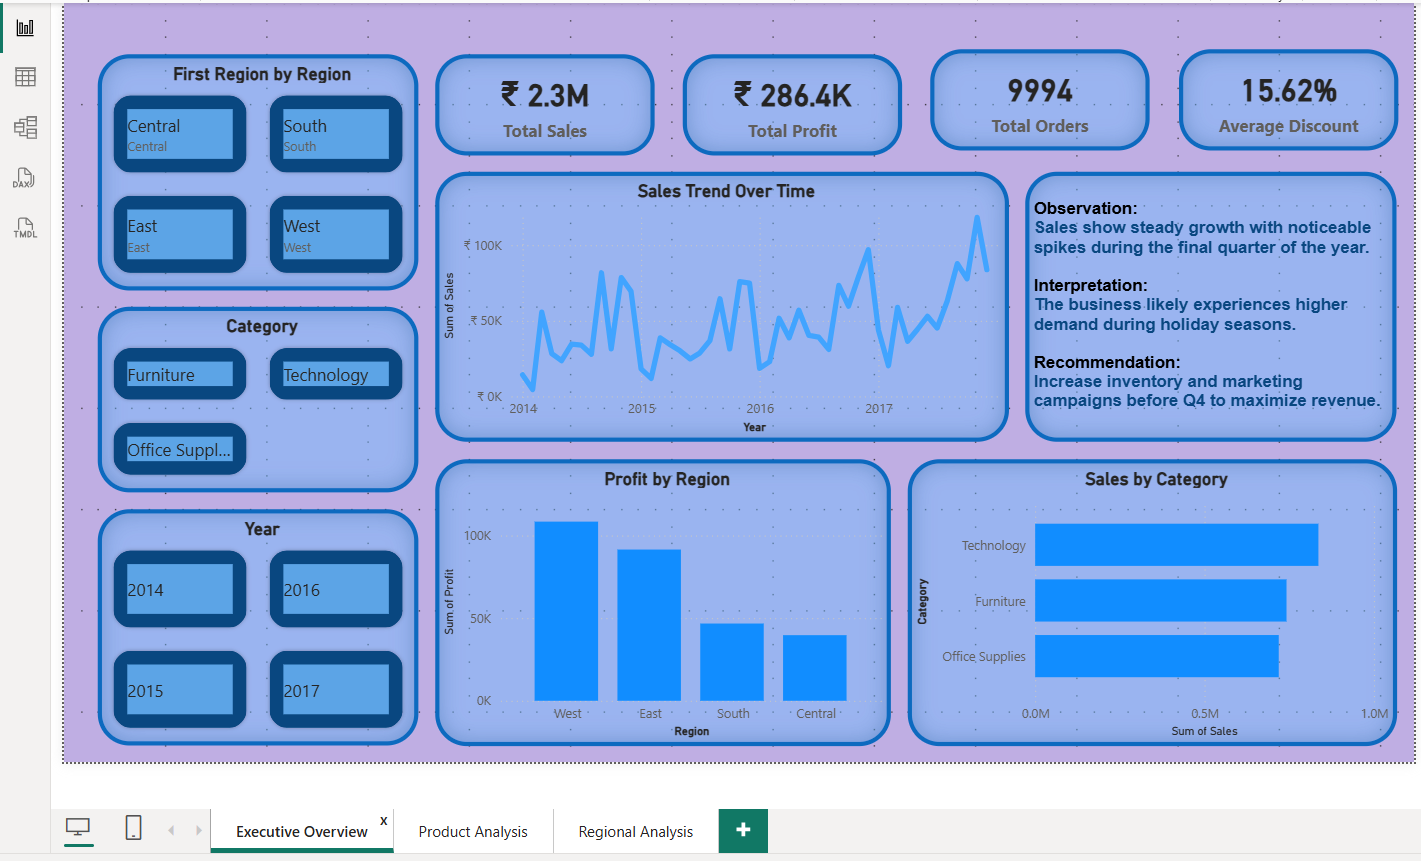

What the dashboard file says about the page in this screenshot:
{"tool":"powerbi","page":{"name":"Executive Overview","canvas":[1280,720],"ordinal":0},"visuals":[{"type":"card","title":"Total Sales","fields":{"Values":["Sum(SuperstoreCleaned.Sales)"]},"box":[352,48,208,96],"z":0},{"type":"card","fields":{"Values":["Sum(SuperstoreCleaned.Profit)"]},"box":[586.9,48,208,96],"z":1000},{"type":"card","fields":{"Values":["CountNonNull(SuperstoreCleaned.Order ID)"]},"box":[821.8,44,208,96],"z":2000},{"type":"card","fields":{"Values":["Avg(SuperstoreCleaned.Discount)"]},"box":[1056.8,44,208,96],"z":3000},{"type":"lineChart","title":"Sales Trend Over Time","fields":{"Y":["Sum(SuperstoreCleaned.Sales)"],"Category":["SuperstoreCleaned.Order Date.Variation.Date Hierarchy.Year","SuperstoreCleaned.Order Date.Variation.Date Hierarchy.Month"]},"box":[352,160,544,256],"z":4000},{"type":"textbox","box":[912,160,352,256],"z":5000},{"type":"clusteredBarChart","title":"Sales by Category","fields":{"Category":["SuperstoreCleaned.Category"],"Y":["Sum(SuperstoreCleaned.Sales)"]},"box":[800,432,464,272],"z":6000},{"type":"clusteredColumnChart","title":"Profit by Region","fields":{"Category":["SuperstoreCleaned.Region"],"Y":["Sum(SuperstoreCleaned.Profit)"]},"box":[352,432,432,272],"z":7000},{"type":"advancedSlicerVisual","fields":{"Label":["Min(SuperstoreCleaned.Region)"],"Values":["SuperstoreCleaned.Region"]},"box":[32,48,304,224],"z":8000},{"type":"advancedSlicerVisual","fields":{"Values":["SuperstoreCleaned.Category"]},"box":[32,288,304,176],"z":9000},{"type":"advancedSlicerVisual","fields":{"Values":["SuperstoreCleaned.Year"]},"box":[32,480,304,224],"z":10000}]}

Visuals, with their boxes in screenshot pixels (x1, y1, x2, y2):
"Total Sales" card: locate(431, 51, 651, 152)
card - Sum(SuperstoreCleaned.Profit): locate(679, 51, 899, 152)
card - CountNonNull(SuperstoreCleaned.Order ID): locate(927, 46, 1147, 148)
card - Avg(SuperstoreCleaned.Discount): locate(1175, 46, 1395, 148)
"Sales Trend Over Time" lineChart: locate(431, 169, 1005, 439)
textbox: locate(1022, 169, 1394, 439)
"Sales by Category" clusteredBarChart: locate(904, 456, 1394, 743)
"Profit by Region" clusteredColumnChart: locate(431, 456, 887, 743)
advancedSlicerVisual - Min(SuperstoreCleaned.Region) x SuperstoreCleaned.Region: locate(93, 51, 414, 287)
advancedSlicerVisual - SuperstoreCleaned.Category: locate(93, 304, 414, 490)
advancedSlicerVisual - SuperstoreCleaned.Year: locate(93, 507, 414, 743)
